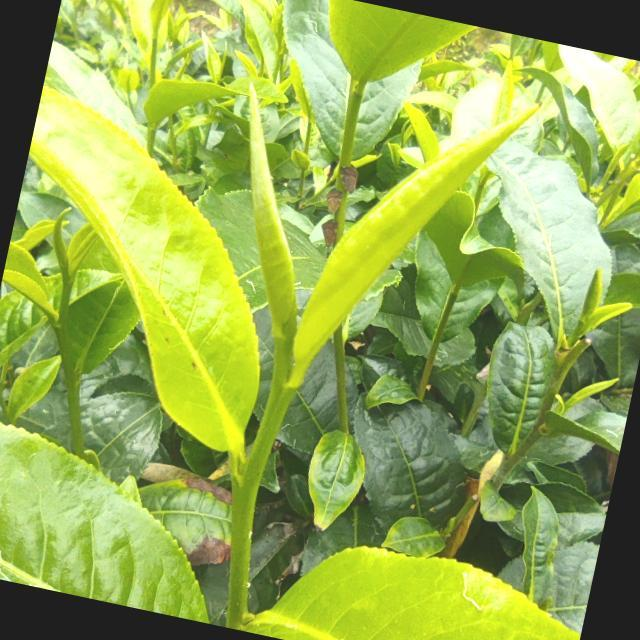Stem: (234, 475, 257, 497), (54, 321, 67, 330)
